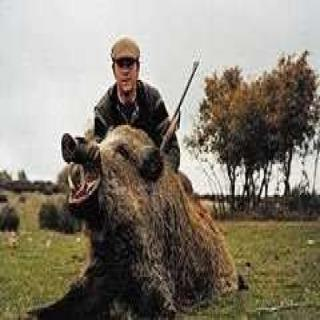Pig: (53, 116, 241, 320)
